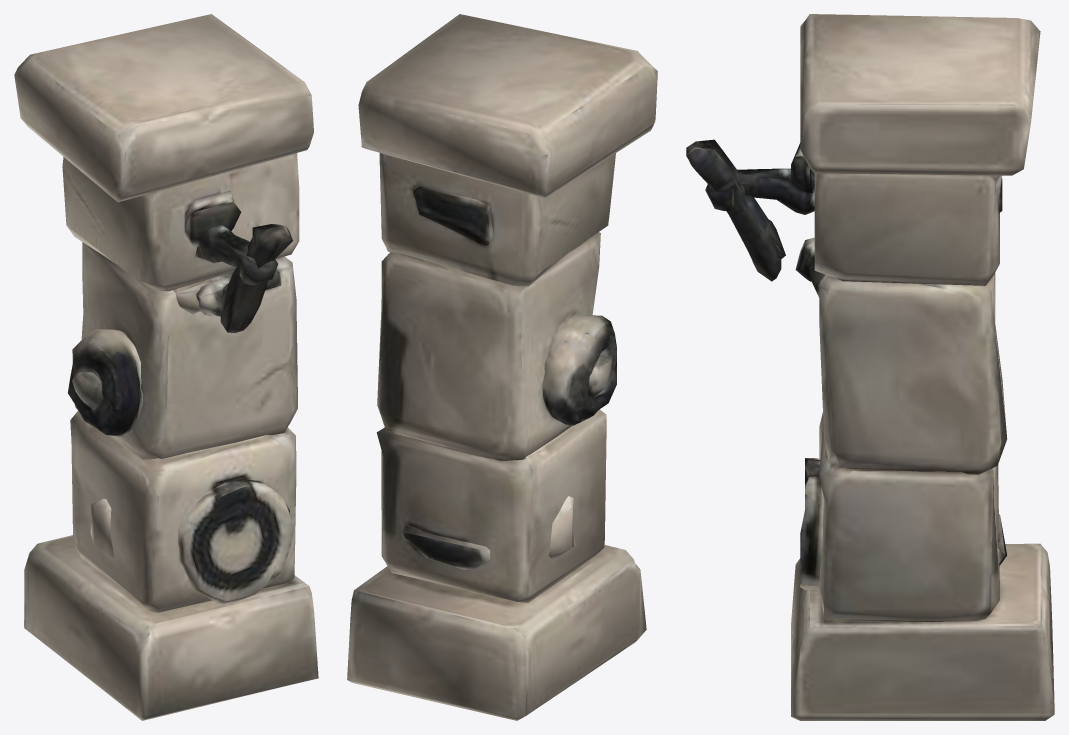
Rendered from pv_pilar.glb.
3 views of the same model, side by side, from view 1: azimuth 30°, elevation 25°; view 2: azimuth 150°, elevation 25°; view 3: azimuth 270°, elevation 25° (orthographic). The views are drawn at different scales.
Parts seen in each view (by area): view 1: Mesh_0.019; view 2: Mesh_0.019; view 3: Mesh_0.019.
Part boxes in pixels (x1,y1,x2,y2): Mesh_0.019: [14, 14, 318, 720]; Mesh_0.019: [347, 14, 657, 720]; Mesh_0.019: [686, 14, 1054, 720].
Bounding box in the file's own units: 0.0977 × 0.2812 × 0.1514.
1 material, 1 textured.
